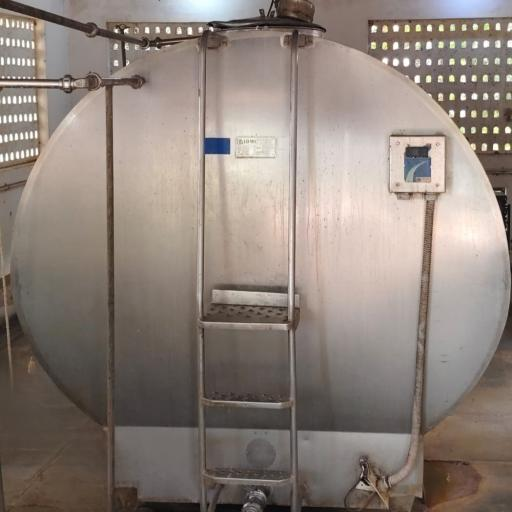silo: (9, 15, 512, 495)
